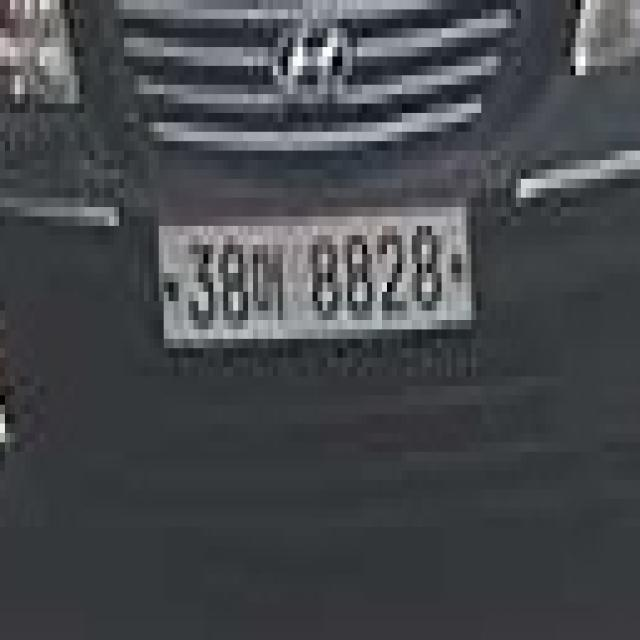plat: (156, 197, 474, 347)
